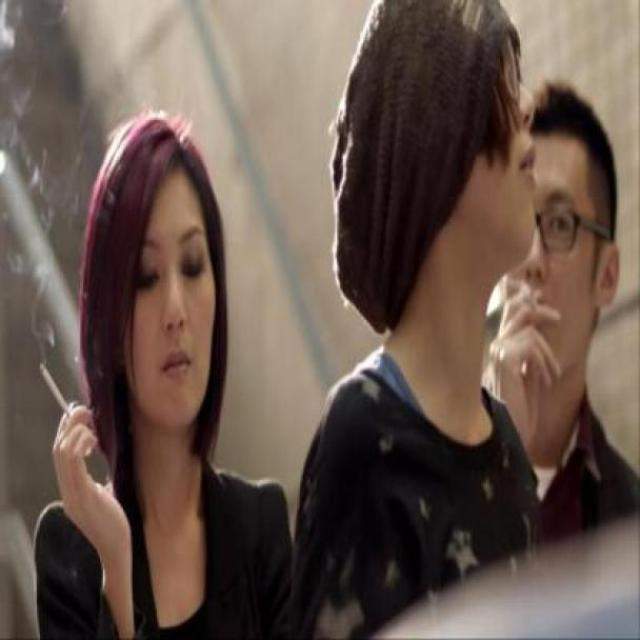rokok: (33, 357, 77, 423)
